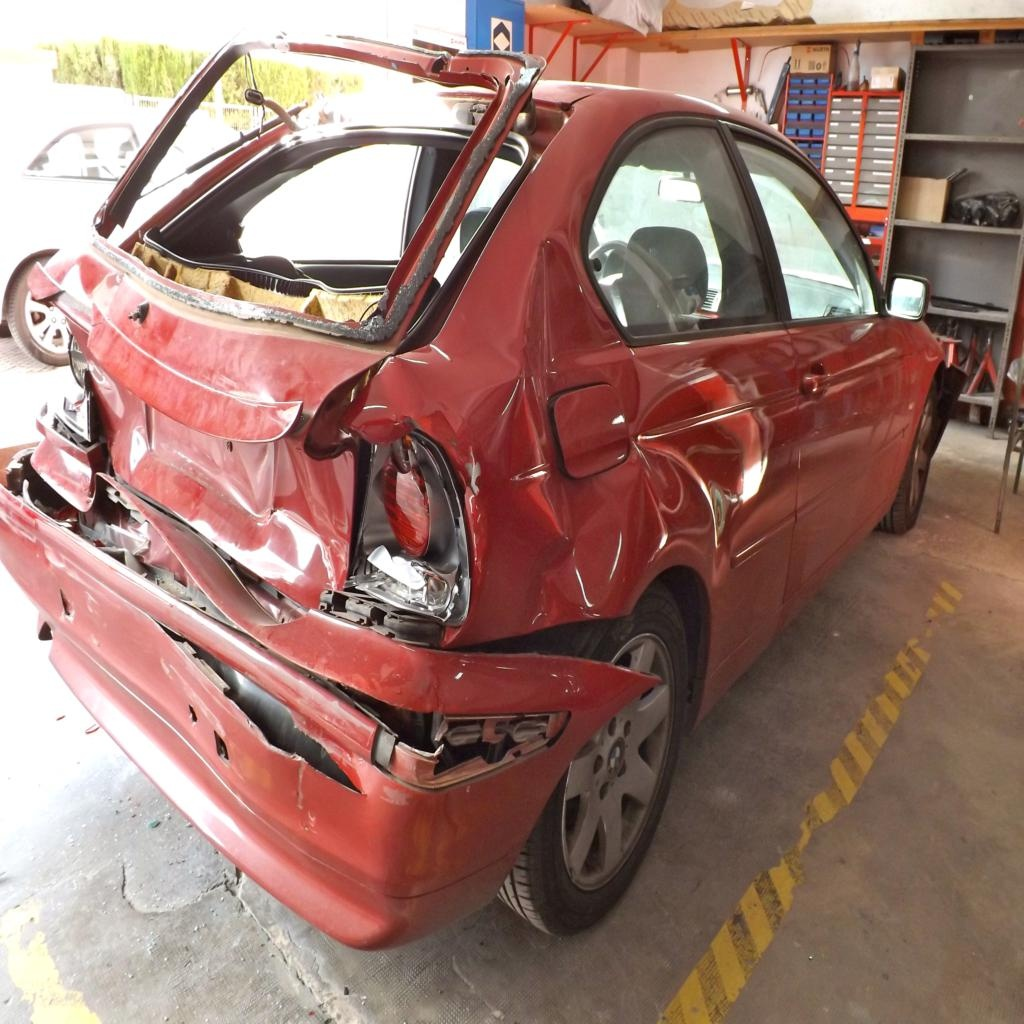Broken-glass: (117, 134, 534, 319), (334, 424, 476, 643), (39, 299, 96, 422)
Dent: (483, 243, 768, 665)
Smashed: (1, 335, 567, 855)
